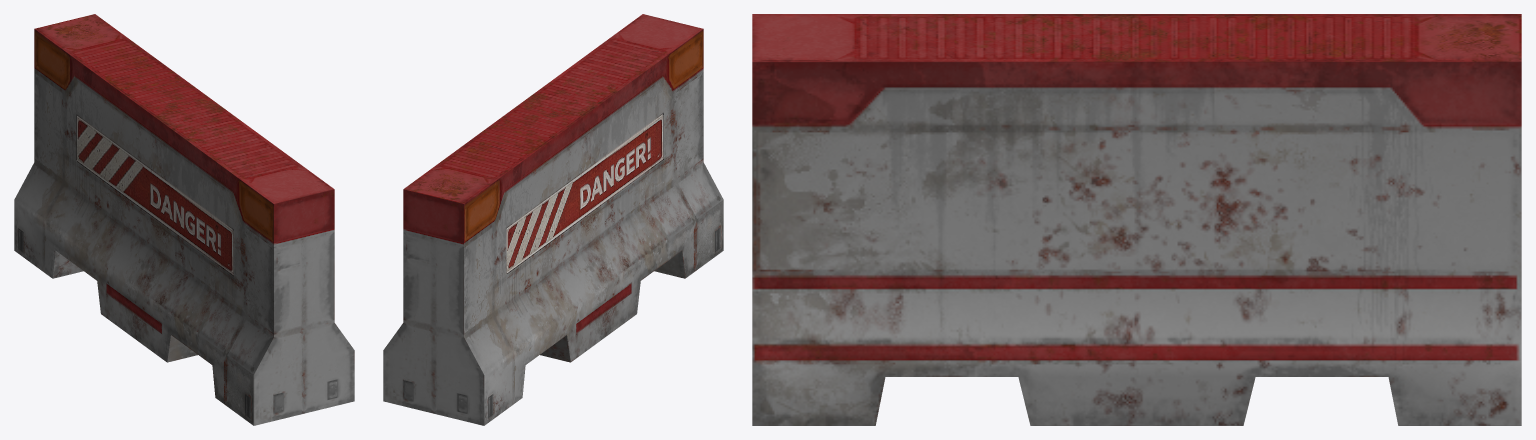
The model's file is CP_Traffic_Barrier_01.fbx.
3 views of the same model, side by side, from view 1: azimuth 30°, elevation 25°; view 2: azimuth 150°, elevation 25°; view 3: azimuth 270°, elevation 25° (orthographic). The views are drawn at different scales.
Visible parts, largest first — view 1: CP_Traffic_Barrier_01; view 2: CP_Traffic_Barrier_01; view 3: CP_Traffic_Barrier_01.
Boxes of the visible parts, x1,y1,x2,y2 form: CP_Traffic_Barrier_01: [14, 14, 354, 425]; CP_Traffic_Barrier_01: [383, 14, 723, 425]; CP_Traffic_Barrier_01: [752, 14, 1521, 425].
Size of the model in its own units: 48.63 by 100 by 200.
